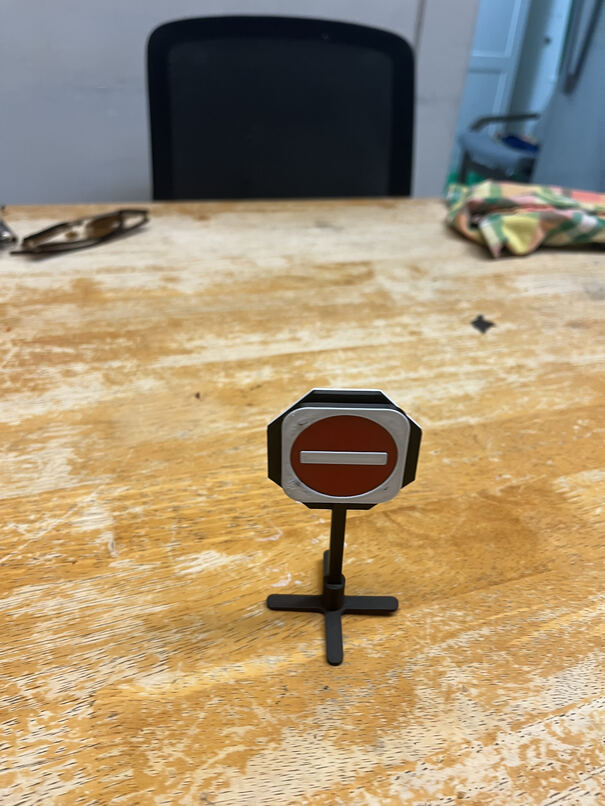sign_noentry: (279, 403, 409, 509)
